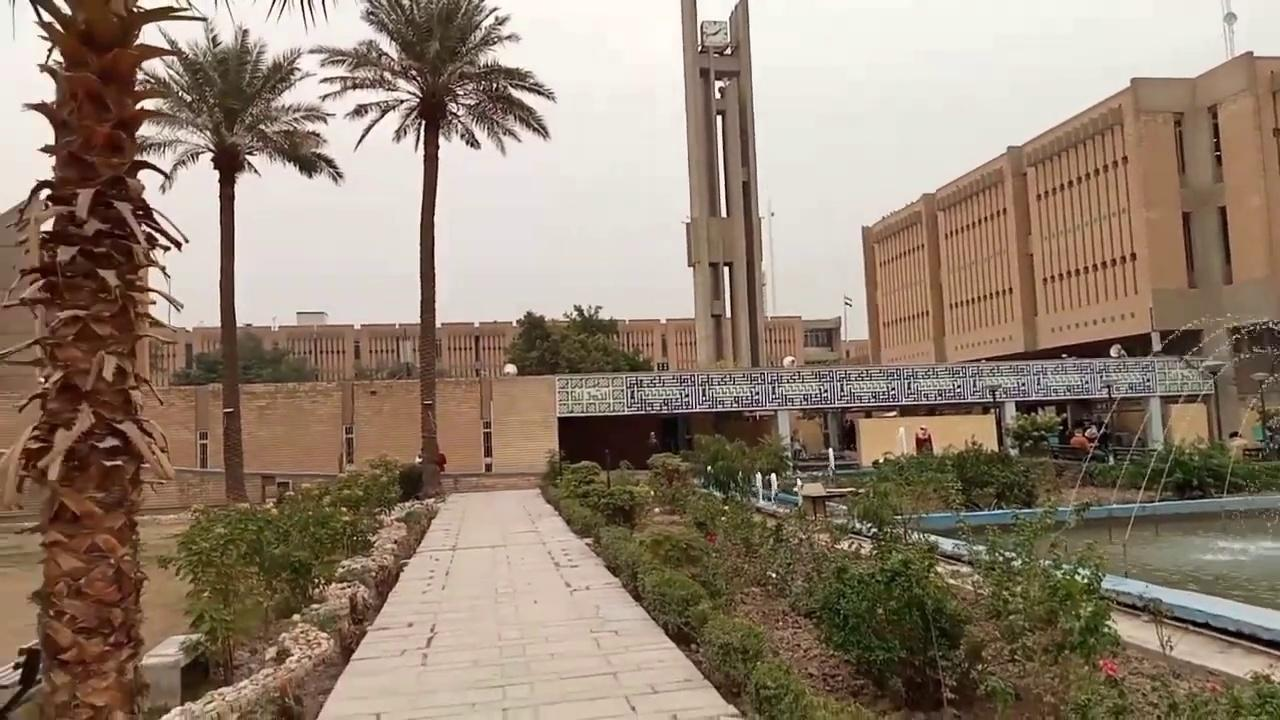car: (416, 449, 446, 471)
fountain: (882, 312, 1278, 648), (888, 489, 1279, 648), (751, 469, 802, 515)
person: (1227, 430, 1249, 461), (915, 425, 933, 455), (843, 418, 856, 450), (646, 431, 660, 456)
tree: (0, 0, 208, 718), (307, 0, 557, 484), (130, 19, 343, 504), (504, 302, 652, 375), (505, 309, 559, 375)
